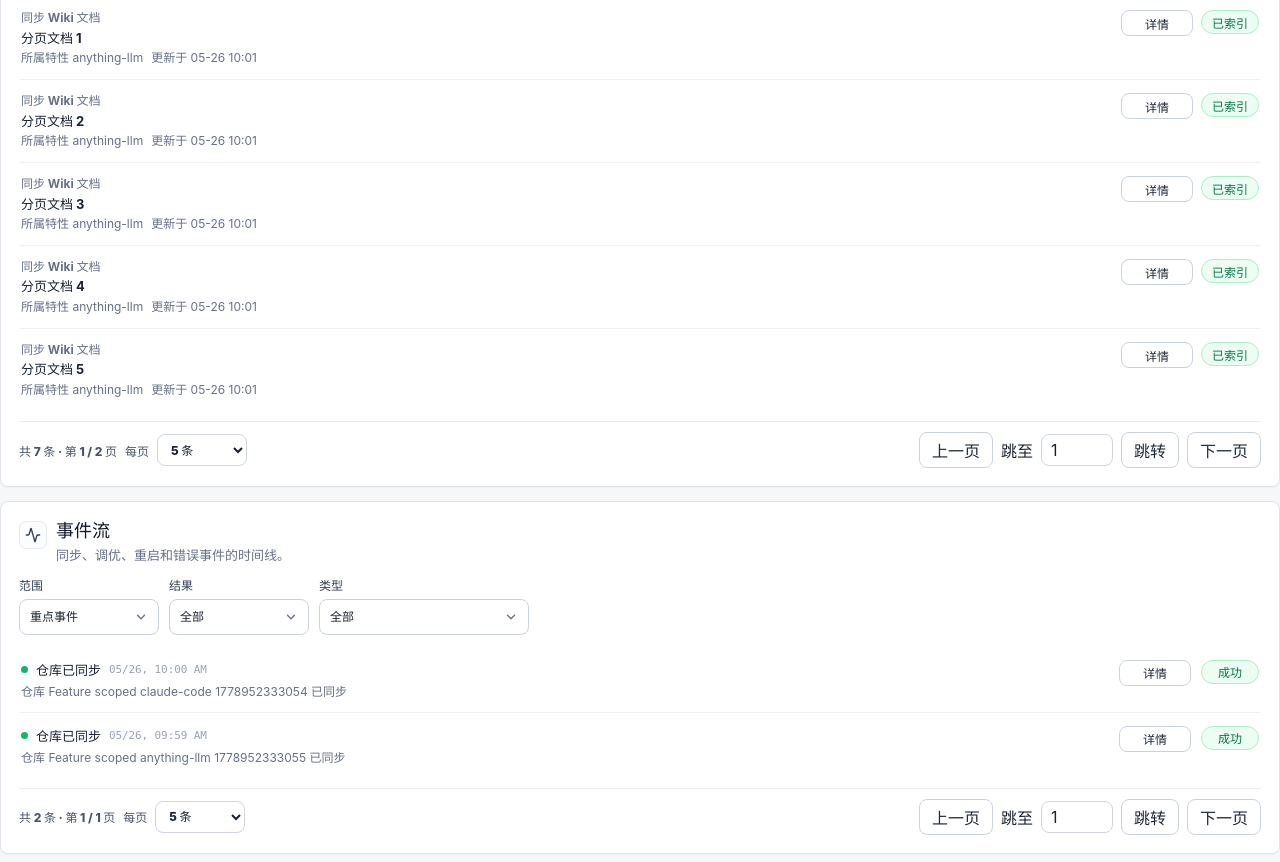
Test: paginates sync jobs across pages and disables prev/next at boundaries
(page scrolled)
Expected: the text "分页文档 1" is shown, [21, 30, 82, 46]
Expected: the text "分页文档 5" is shown, [21, 361, 84, 377]
Click the button with aria-label "下一页同步任务": {"x": 1224, "y": 450} [1187, 432, 1261, 468]
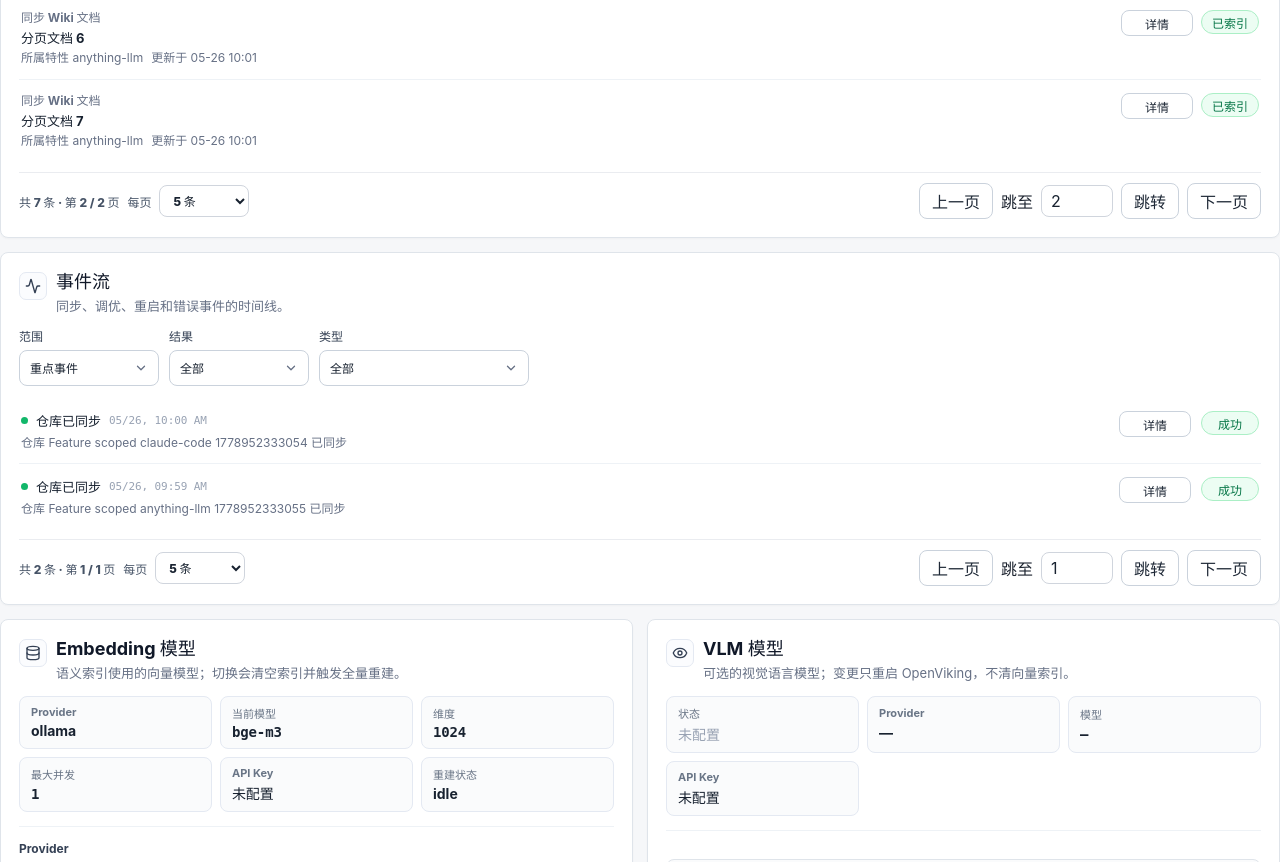
Expected: the text "分页文档 6" is shown, [21, 30, 84, 46]
Expected: the text "分页文档 7" is shown, [21, 113, 84, 129]
Expected: the text "分页文档 1" is gone
Click the button with aria-label "上一页同步任务": {"x": 956, "y": 201} [919, 183, 993, 219]
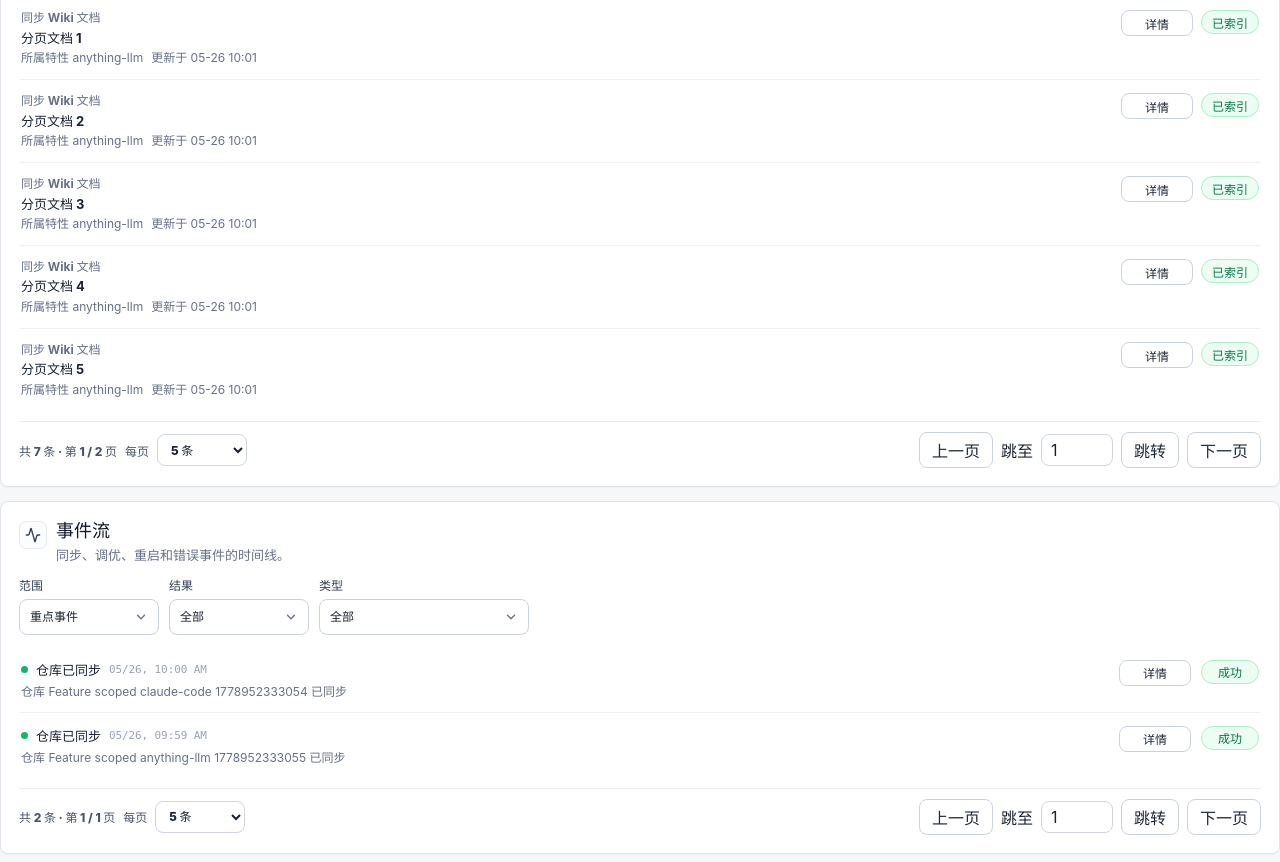
Expected: the text "分页文档 1" is shown, [21, 30, 82, 46]
Expected: the text "共 7 条 · 第 1 / 2 页" is shown, [19, 442, 117, 459]
